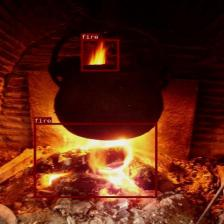fire: (33, 123, 157, 197), (80, 39, 118, 71)
